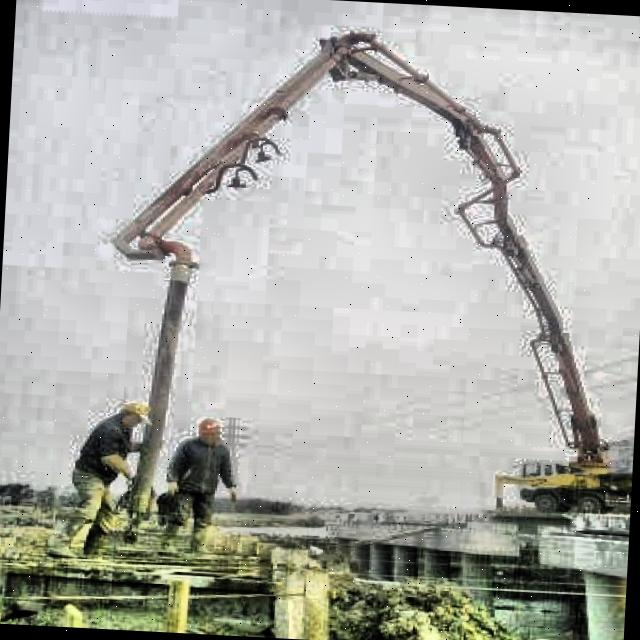helmet: (120, 398, 156, 433), (192, 418, 225, 448)
